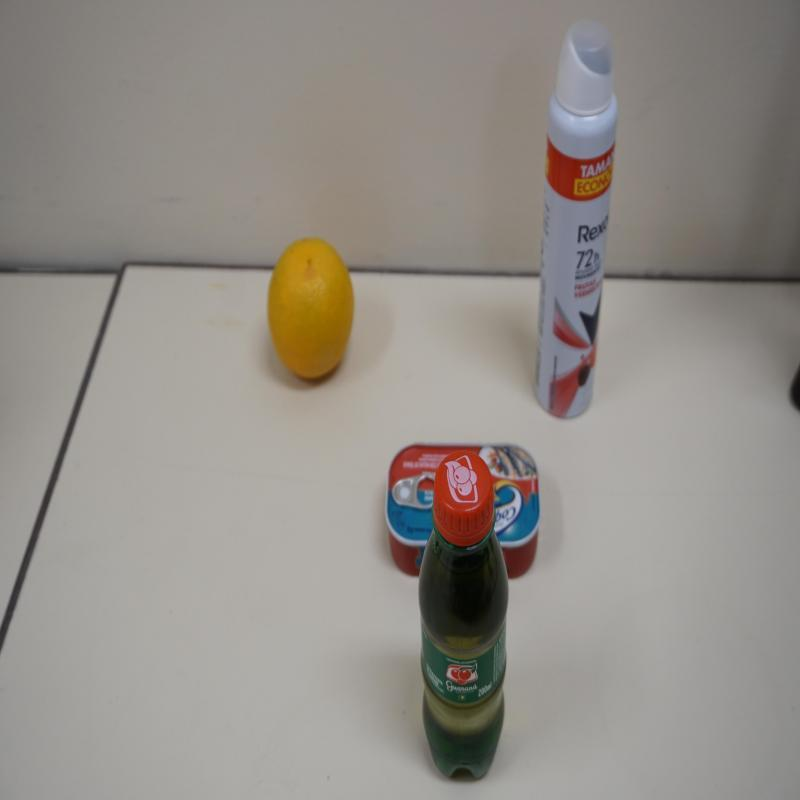Guarana: (418, 450, 510, 785)
Orange: (266, 239, 356, 388)
TunaCan: (386, 444, 541, 580)
